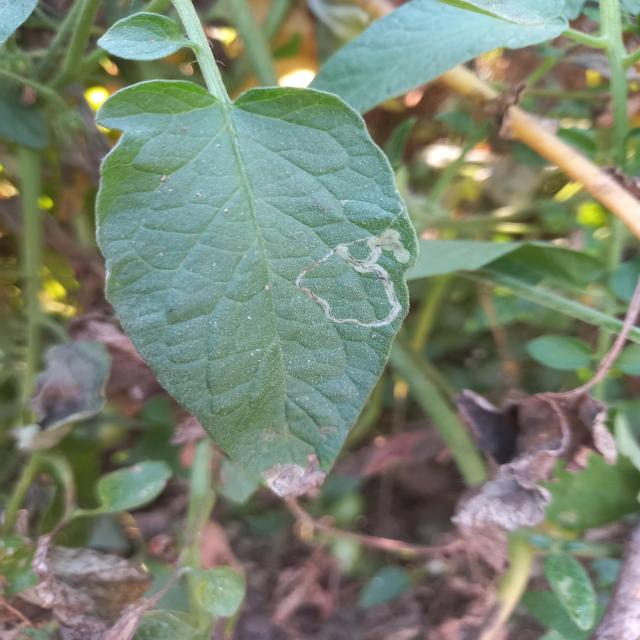Tuta absoluta: (296, 209, 442, 354)
